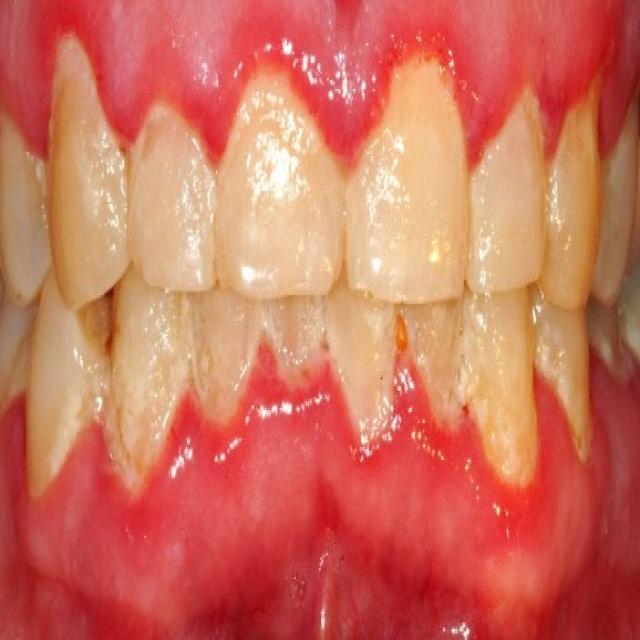Gingivitis: (89, 485, 512, 639)
